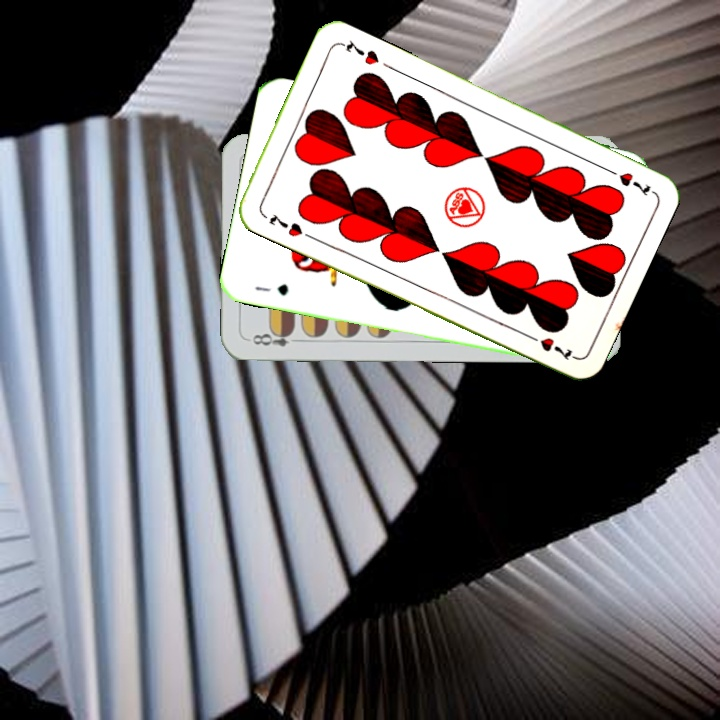E8: (248, 326, 304, 349)
GU: (251, 280, 291, 299)
H7: (600, 163, 653, 199), (265, 209, 305, 240)
